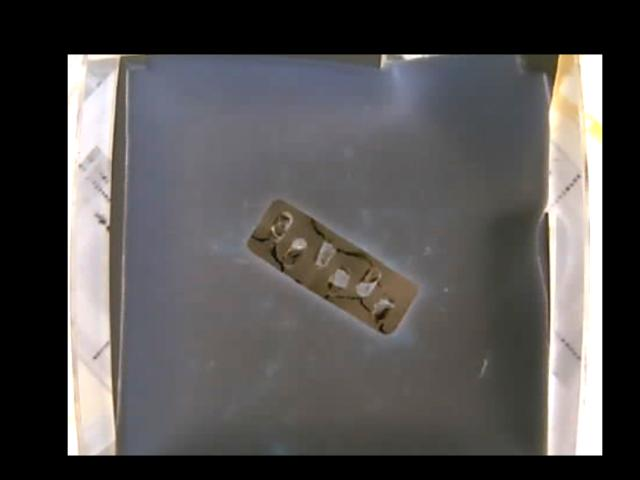Medicine: (248, 199, 417, 336)
